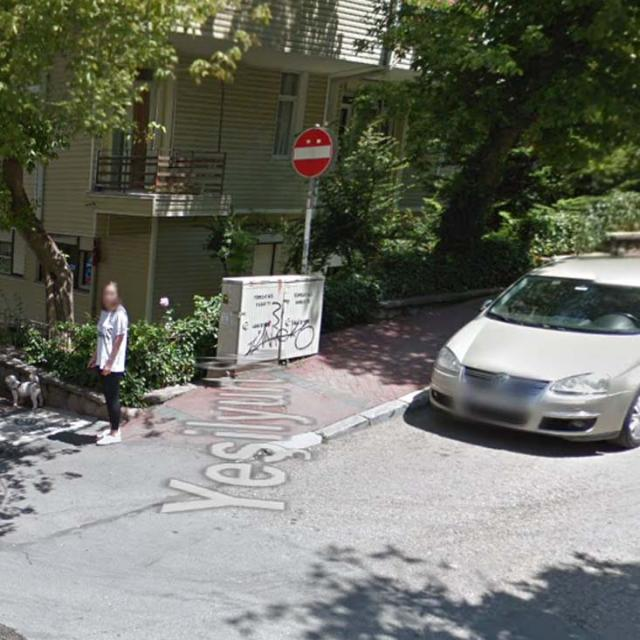girisyok: (291, 128, 331, 180)
